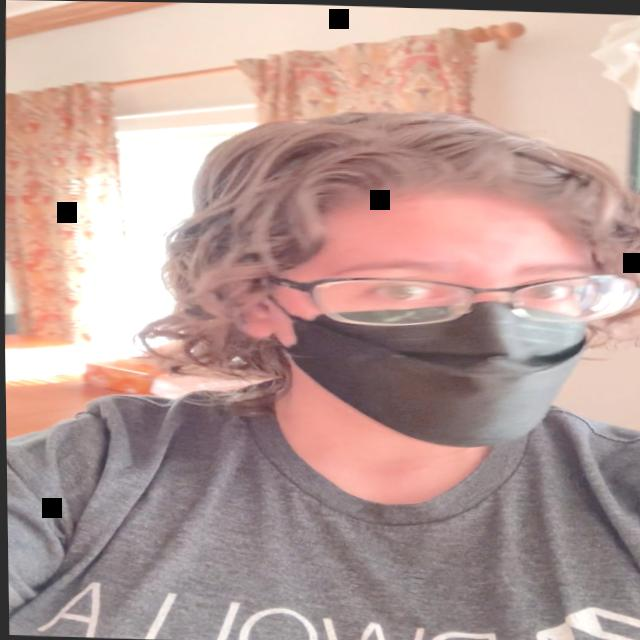Mask: (261, 181, 604, 452)
